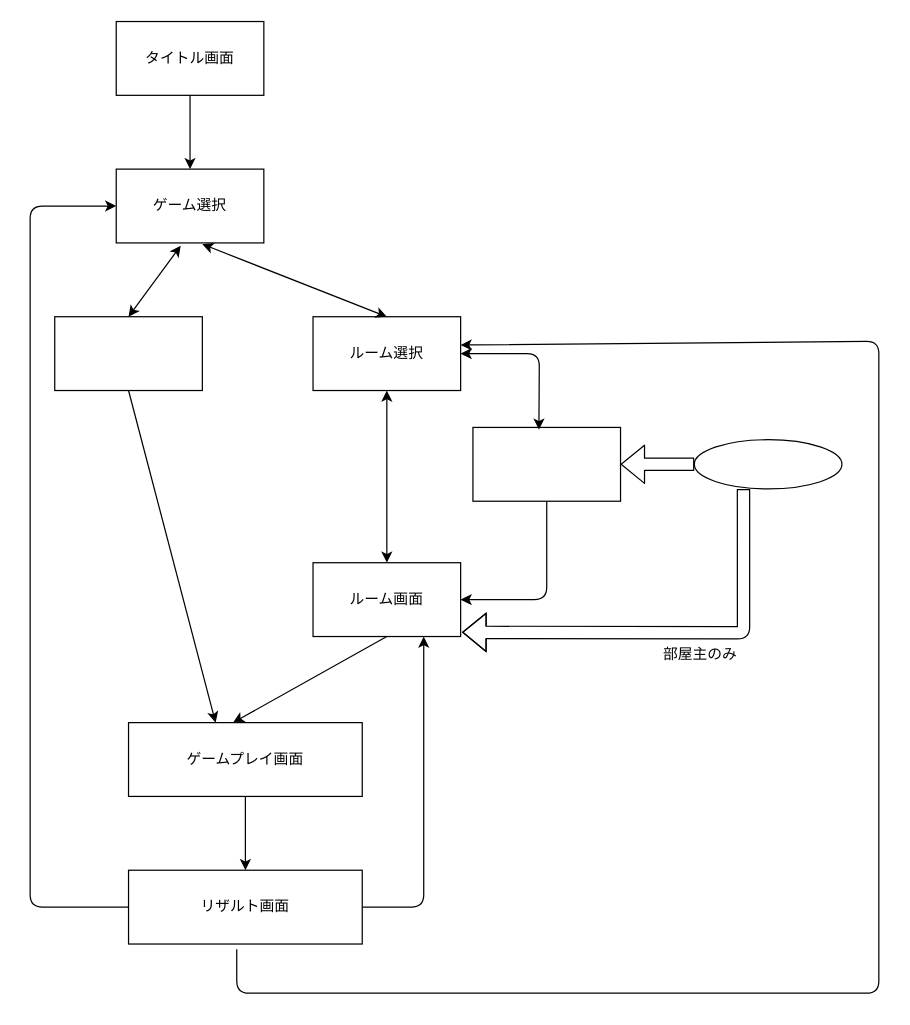
Image size: 910x1025. Some labels were removed from this diagram. Here are the shapes that lost their labels. From the top down, the centre of each, then its label:
At (128,353): "CPU戦".
At (546,463): "ルーム作成画面".
At (767,463): "ルーム設定".
